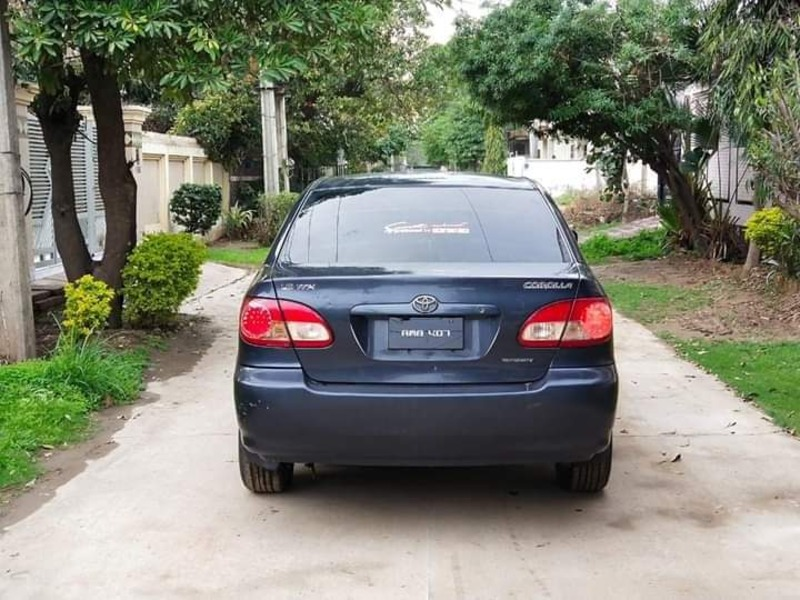License Plate: (379, 309, 474, 357)
